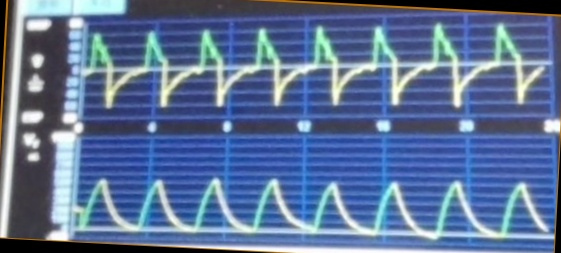Accumulation Flow: (87, 18, 548, 117)
Volume: (81, 144, 547, 241)
